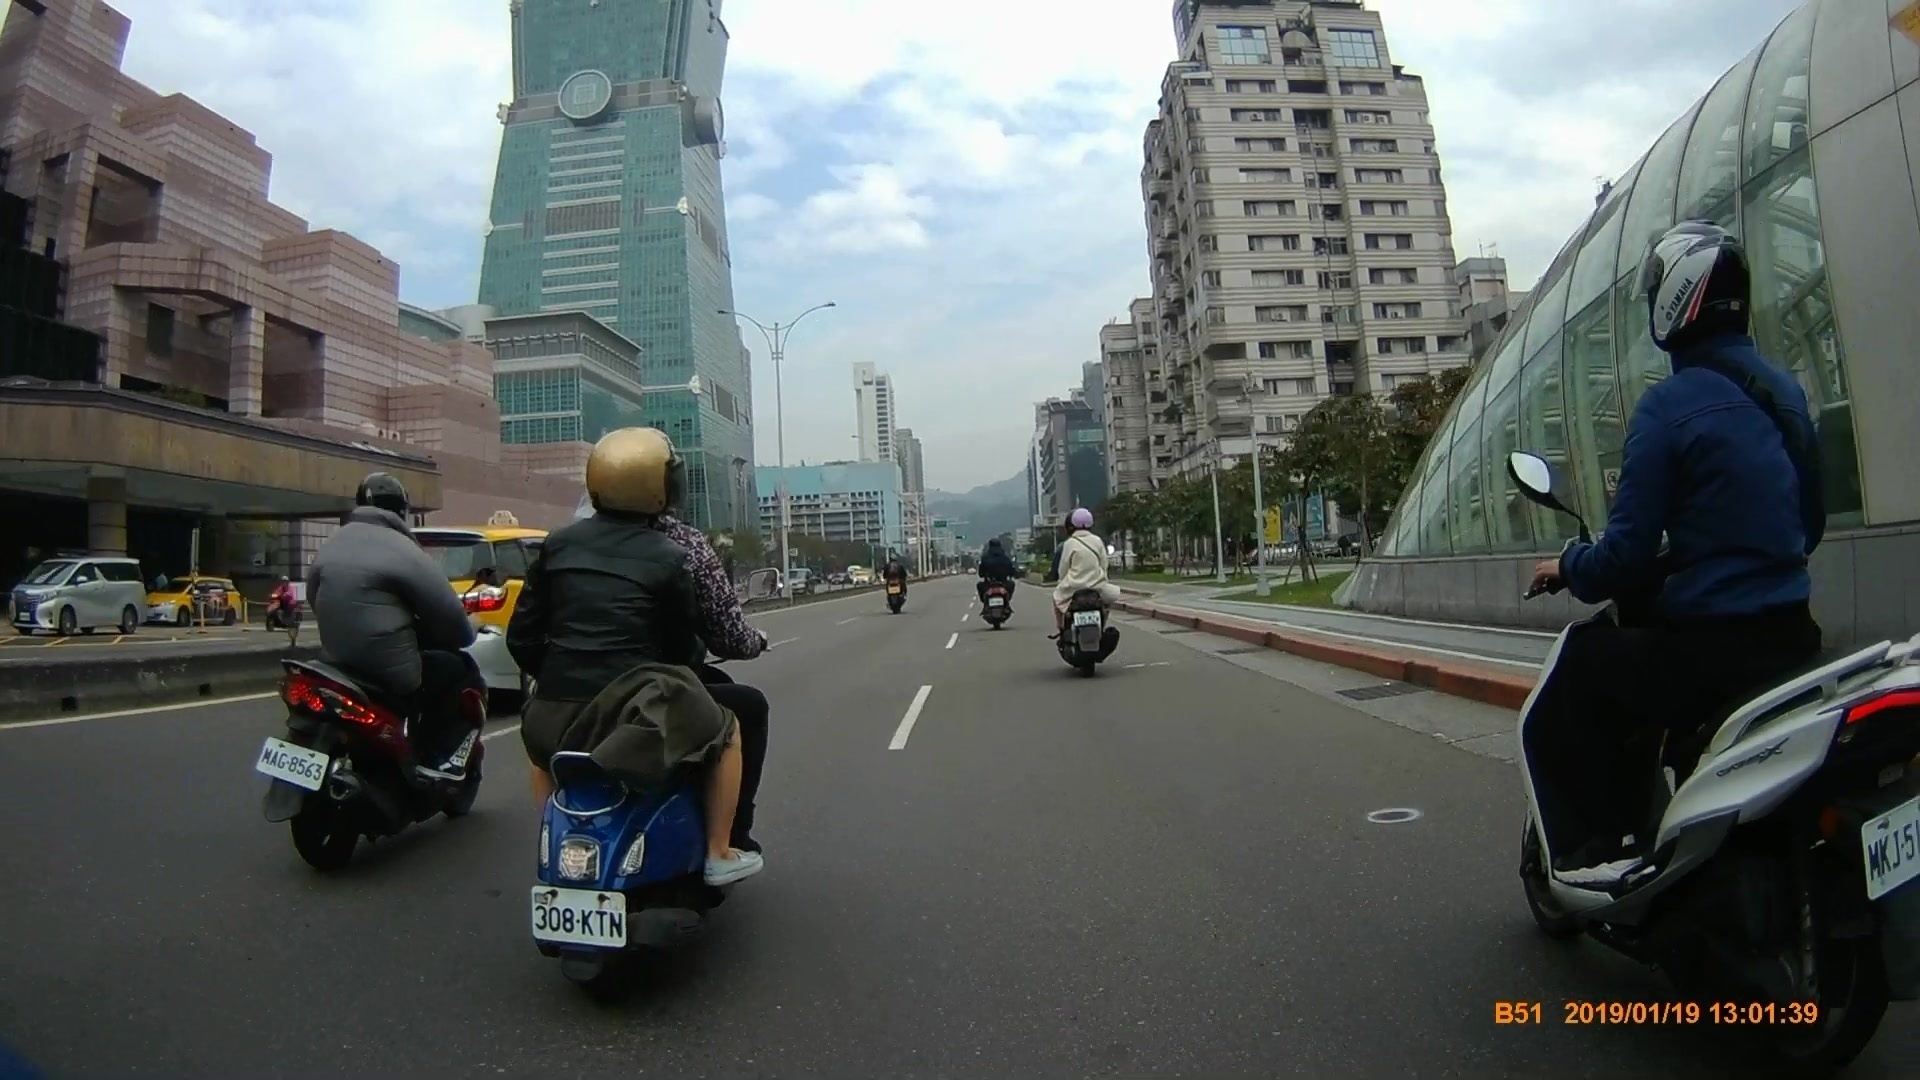License_plate: (532, 883, 632, 950), (254, 730, 331, 795)
